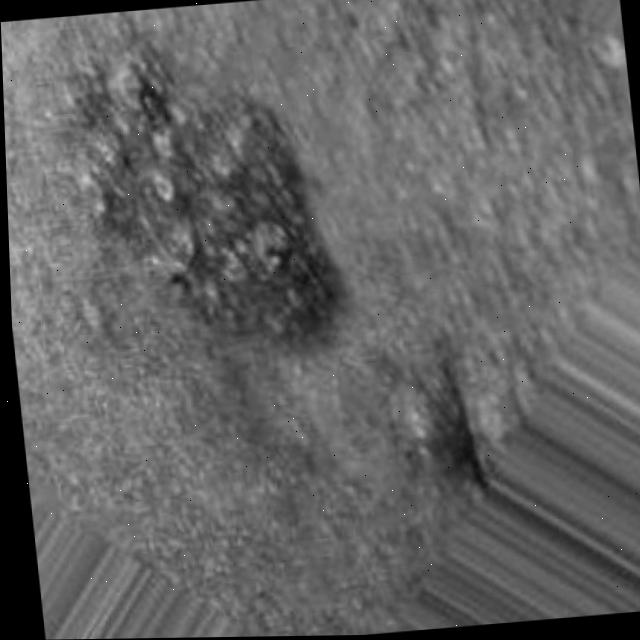Shingles: (75, 36, 353, 354)
